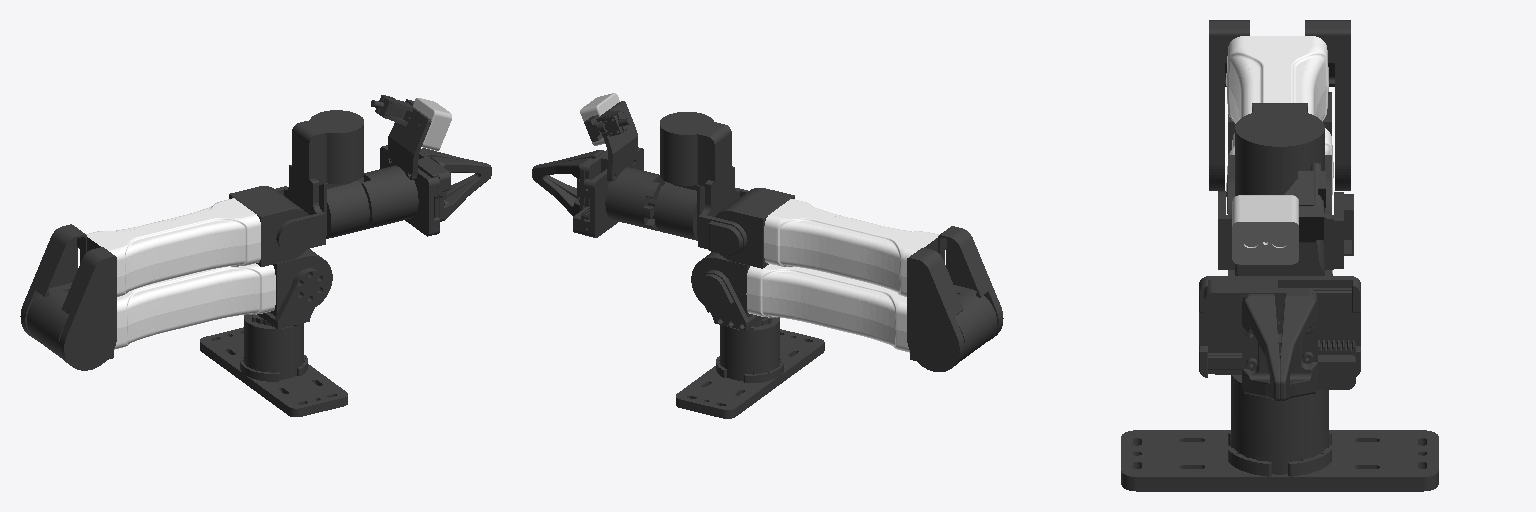
robot.urdf — yam:
<?xml version='1.0' encoding='utf-8'?>
<robot name="yam">
  <link name="base">
    <inertial>
      <mass value="0.873654" />
      <origin xyz="-3.83908653914762e-05 2.40068589826393e-05 0.0247677998591499" rpy="0 1.5708 3.1415963267949" />
      <inertia ixx="0.00157059" ixy="-9.4753e-07" ixz="2.04071e-07" iyy="0.000678307" iyz="2.44292e-07" izz="0.00169404" />
    </inertial>
    <visual name="base_0">
      <origin xyz="0.0374957408313106 0.0464006377298596 0.187501137731438" rpy="0 1.5708 3.1415963267949" />
      <geometry>
        <mesh filename="base.stl" scale="1 1 1" />
      </geometry>
      <material name="step_77_77_77">
        <color rgba="0.301961 0.301961 0.301961 1" />
      </material>
    </visual>
  </link>
  <link name="gripper">
    <inertial>
      <mass value="0.553219" />
      <origin xyz="-3.57064e-05 0.000249371 -0.0293133" rpy="0 -0 0" />
      <inertia ixx="0.000409669" ixy="5.44941e-07" ixz="7.91268e-07" iyy="0.000324942" iyz="-4.83959e-06" izz="0.000369249" />
    </inertial>
    <visual name="gripper_0">
      <origin xyz="-0.014 -0.0463995 0.0731" rpy="0 -0 0" />
      <geometry>
        <mesh filename="gripper.stl" scale="1 1 1" />
      </geometry>
      <material name="step_77_77_77">
        <color rgba="0.301961 0.301961 0.301961 1" />
      </material>
    </visual>
    <visual name="wrist_camera_0">
      <origin xyz="-0.014 -0.0463995 0.0731" rpy="0 0 0" />
      <geometry>
        <mesh filename="wrist_camera.stl" scale="1 1 1" />
      </geometry>
      <material name="step_77_77_77">
        <color rgba="0.301961 0.301961 0.301961 1" />
      </material>
    </visual>
    <visual name="wrist_camera_1">
      <origin xyz="-0.014 -0.0463995 0.0731" rpy="0 0 0" />
      <geometry>
        <mesh filename="wrist_camera_1.stl" scale="1 1 1" />
      </geometry>
      <material name="step_204_204_204">
        <color rgba="0.8 0.8 0.8 1" />
      </material>
    </visual>
  </link>
  <link name="link1">
    <inertial>
      <mass value="0.101218" />
      <origin xyz="-0.0233636 -0.00172503 -0.00727828" rpy="0 -0 0" />
      <inertia ixx="0.000114689" ixy="-4.62759e-06" ixz="-1.3427e-05" iyy="4.76603e-05" iyz="-2.58724e-06" izz="0.000125996" />
    </inertial>
    <visual name="link1_0">
      <origin xyz="-0.119501 -0.0464 -0.0374968" rpy="0 -0 0" />
      <geometry>
        <mesh filename="link1.stl" scale="1 1 1" />
      </geometry>
      <material name="step_77_77_77">
        <color rgba="0.301961 0.301961 0.301961 1" />
      </material>
    </visual>
  </link>
  <link name="link2">
    <inertial>
      <mass value="1.46908" />
      <origin xyz="0.000134495 -0.0331253 0.129165" rpy="0 -0 0" />
      <inertia ixx="0.0146686" ixy="-1.1067e-08" ixz="-4.33007e-07" iyy="0.014599" iyz="3.12564e-06" izz="0.000800089" />
    </inertial>
    <visual name="link2_0">
      <origin xyz="-0.0740001 -0.08025 -0.0174977" rpy="0 -0 0" />
      <geometry>
        <mesh filename="link2.stl" scale="1 1 1" />
      </geometry>
      <material name="step_77_77_77">
        <color rgba="0.301961 0.301961 0.301961 1" />
      </material>
    </visual>
    <visual name="link2_1">
      <origin xyz="-0.0740001 -0.08025 -0.0174977" rpy="0 -0 0" />
      <geometry>
        <mesh filename="link2_1.stl" scale="1 1 1" />
      </geometry>
      <material name="step_255_255_255">
        <color rgba="1.0 1.0 1.0 1" />
      </material>
    </visual>
  </link>
  <link name="link3">
    <inertial>
      <mass value="0.982553" />
      <origin xyz="-0.0556042 -0.0340514 -0.135083" rpy="0 -0 0" />
      <inertia ixx="0.00758945" ixy="4.36076e-06" ixz="-0.00064069" iyy="0.00763097" iyz="-1.09984e-05" izz="0.000937606" />
    </inertial>
    <visual name="link3_0">
      <origin xyz="-0.0740003 -0.0813 -0.281499" rpy="0 -0 0" />
      <geometry>
        <mesh filename="link3.stl" scale="1 1 1" />
      </geometry>
      <material name="step_77_77_77">
        <color rgba="0.301961 0.301961 0.301961 1" />
      </material>
    </visual>
    <visual name="link3_1">
      <origin xyz="-0.0740003 -0.0813 -0.281499" rpy="0 -0 0" />
      <geometry>
        <mesh filename="link3_1.stl" scale="1 1 1" />
      </geometry>
      <material name="step_255_255_255">
        <color rgba="1.0 1.0 1.0 1" />
      </material>
    </visual>
  </link>
  <link name="link4">
    <inertial>
      <mass value="0.462165" />
      <origin xyz="-0.0550959 0.032726 -0.0575534" rpy="0 -0 0" />
      <inertia ixx="0.000473594" ixy="3.00819e-05" ixz="-0.000238801" iyy="0.000764022" iyz="2.9261e-05" izz="0.000604492" />
    </inertial>
    <visual name="link4_0">
      <origin xyz="-0.0140003 -0.0125 -0.0364989" rpy="0 -0 0" />
      <geometry>
        <mesh filename="link4.stl" scale="1 1 1" />
      </geometry>
      <material name="step_77_77_77">
        <color rgba="0.301961 0.301961 0.301961 1" />
      </material>
    </visual>
  </link>
  <link name="link5">
    <inertial>
      <mass value="0.403307" />
      <origin xyz="0.0375847 -3.55003e-05 -0.000825911" rpy="0 -0 0" />
      <inertia ixx="0.000184284" ixy="2.10549e-07" ixz="1.29173e-05" iyy="0.000219791" iyz="-3.49657e-07" izz="0.000181053" />
    </inertial>
    <visual name="link5_0">
      <origin xyz="0.0265 -0.0463995 0.0375" rpy="0 -0 0" />
      <geometry>
        <mesh filename="link5.stl" scale="1 1 1" />
      </geometry>
      <material name="step_77_77_77">
        <color rgba="0.301961 0.301961 0.301961 1" />
      </material>
    </visual>
  </link>
  <link name="tip_left">
    <inertial>
      <mass value="0.069657" />
      <origin xyz="0.014584 -0.042586 -0.0228318" rpy="0 -0 0" />
      <inertia ixx="5.14494e-05" ixy="1.10836e-05" ixz="1.00197e-05" iyy="4.99137e-05" iyz="-1.14425e-05" izz="4.79405e-05" />
    </inertial>
    <visual name="tip_left_0">
      <origin xyz="0.00999321 -0.0914614 0.129783" rpy="0 -0 0" />
      <geometry>
        <mesh filename="tip_left.stl" scale="1 1 1" />
      </geometry>
      <material name="step_77_77_77">
        <color rgba="0.301961 0.301961 0.301961 1" />
      </material>
    </visual>
  </link>
  <link name="tip_right">
    <inertial>
      <mass value="0.069657" />
      <origin xyz="-0.014584 0.042586 -0.0228318" rpy="0 -0 0" />
      <inertia ixx="5.14494e-05" ixy="1.10836e-05" ixz="-1.00197e-05" iyy="4.99137e-05" iyz="1.14425e-05" izz="4.79405e-05" />
    </inertial>
    <visual name="tip_right_0">
      <origin xyz="-0.0379932 -0.00133753 0.129783" rpy="0 -0 0" />
      <geometry>
        <mesh filename="tip_right.stl" scale="1 1 1" />
      </geometry>
      <material name="step_77_77_77">
        <color rgba="0.301961 0.301961 0.301961 1" />
      </material>
    </visual>
  </link>
  <joint name="joint1" type="revolute">
    <origin xyz="-2.49777947129965e-07 -9.17402363407408e-13 0.0679999999995413" rpy="0 1.5708 3.1415963267949" />
    <axis xyz="-1 0 0" />
    <parent link="base" />
    <child link="link1" />
    <limit effort="1" velocity="1" lower="-2.61799" upper="3.14159" />
  </joint>
  <joint name="joint2" type="revolute">
    <origin xyz="-0.0455 -0.0339 -0.02" rpy="-1.7953e-16 5.55112e-17 -3.14159" />
    <axis xyz="3.58252e-15 1 -3.2007e-16" />
    <parent link="link1" />
    <child link="link2" />
    <limit effort="1" velocity="1" lower="-8.88178e-16" upper="3.66519" />
  </joint>
  <joint name="joint3" type="revolute">
    <origin xyz="4.08431e-07 -0.0688 0.264" rpy="-2.99502e-14 -1.6015e-14 -3.14159" />
    <axis xyz="4.54273e-15 1 1.04275e-14" />
    <parent link="link2" />
    <child link="link3" />
    <limit effort="1" velocity="1" lower="0" upper="3.14159" />
  </joint>
  <joint name="joint4" type="revolute">
    <origin xyz="-0.0600003 -0.0688 -0.244999" rpy="2.95536e-14 8.52374e-14 -2.10585e-14" />
    <axis xyz="0 1 0" />
    <parent link="link3" />
    <child link="link4" />
    <limit effort="1" velocity="1" lower="-1.69297" upper="1.5708" />
  </joint>
  <joint name="joint5" type="revolute">
    <origin xyz="-0.0405003 0.0338995 -0.0739989" rpy="2.73264e-14 -4.32956e-16 -8.32667e-17" />
    <axis xyz="1 0 0" />
    <parent link="link4" />
    <child link="link5" />
    <limit effort="1" velocity="1" lower="-1.5708" upper="1.5708" />
  </joint>
  <joint name="joint6" type="revolute">
    <origin xyz="0.0404996 2.39858e-07 -0.0356" rpy="8.83309e-16 -5.88588e-16 7.69861e-14" />
    <axis xyz="1.46014e-15 2.40808e-14 -1" />
    <parent link="link5" />
    <child link="gripper" />
    <limit effort="1" velocity="1" lower="-2.0944" upper="2.0944" />
  </joint>
  <joint name="joint7" type="prismatic">
    <origin xyz="-0.0239931 0.0445119 -0.0566829" rpy="1.02229e-14 4.71845e-16 1.68314e-15" />
    <axis xyz="6.86541e-15 1 0" />
    <parent link="gripper" />
    <child link="tip_left" />
    <limit effort="1" velocity="1" lower="-0.04695" upper="4.60927e-15" />
  </joint>
  <joint name="joint8" type="prismatic">
    <origin xyz="0.0239931 -0.0445119 -0.0566829" rpy="9.6084e-15 -2.77556e-16 -3.77189e-15" />
    <axis xyz="-6.86541e-15 -1 0" />
    <parent link="gripper" />
    <child link="tip_right" />
    <limit effort="1" velocity="1" lower="-0.04695" upper="0" />
  </joint>
  <link name="tcp" />
  <joint name="eef_to_tcp" type="fixed">
    <origin xyz="0 0 -0.14593" rpy="3.141592654 0 0" />
    <parent link="gripper" />
    <child link="tcp" />
  </joint>
</robot>

--- Render facts (derived) ---
3 views of the same robot in one strip: view 1: azimuth 30°, elevation 25°; view 2: azimuth 150°, elevation 25°; view 3: azimuth 270°, elevation 25° (orthographic).
Robot: yam — 10 links, 9 joints (6 revolute, 2 prismatic, 1 fixed); root link base; default pose: every joint at zero.
Links seen in each view (by area): view 1: link3, link2, base, gripper, link4, link5, link1, tip_right, tip_left; view 2: link3, link2, base, link4, gripper, link5, tip_left, link1, tip_right; view 3: base, link3, gripper, link4, tip_left, tip_right, link2.
Link boxes in pixels (x1,y1,x2,y2): link3: (20, 186, 308, 370); link2: (27, 249, 332, 359); base: (200, 315, 347, 416); gripper: (358, 95, 451, 236); link4: (275, 110, 363, 252); link5: (319, 180, 369, 238); link1: (257, 268, 324, 328); tip_right: (431, 156, 491, 221); tip_left: (418, 148, 486, 198); link3: (715, 188, 1003, 371); link2: (691, 252, 996, 360); base: (676, 317, 824, 418); link4: (660, 112, 747, 255); gripper: (580, 93, 665, 237); link5: (648, 182, 704, 240); tip_left: (532, 150, 607, 216); link1: (697, 270, 764, 330); tip_right: (536, 150, 604, 234); base: (1121, 375, 1438, 491); link3: (1209, 20, 1350, 214); gripper: (1199, 163, 1360, 377); link4: (1218, 103, 1353, 269); tip_left: (1204, 279, 1317, 400); tip_right: (1242, 294, 1355, 400); link2: (1228, 92, 1333, 275).
Size in the robot's own frame: 0.5329 by 0.2 by 0.2745 metres.
Meshes: 13 distinct files referenced, 13 mesh visuals loaded (13 binary STL).
